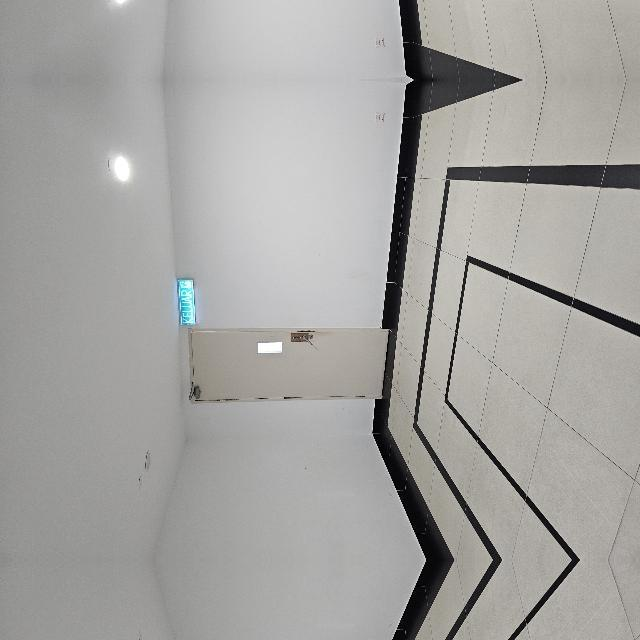door: (157, 268, 233, 472)
